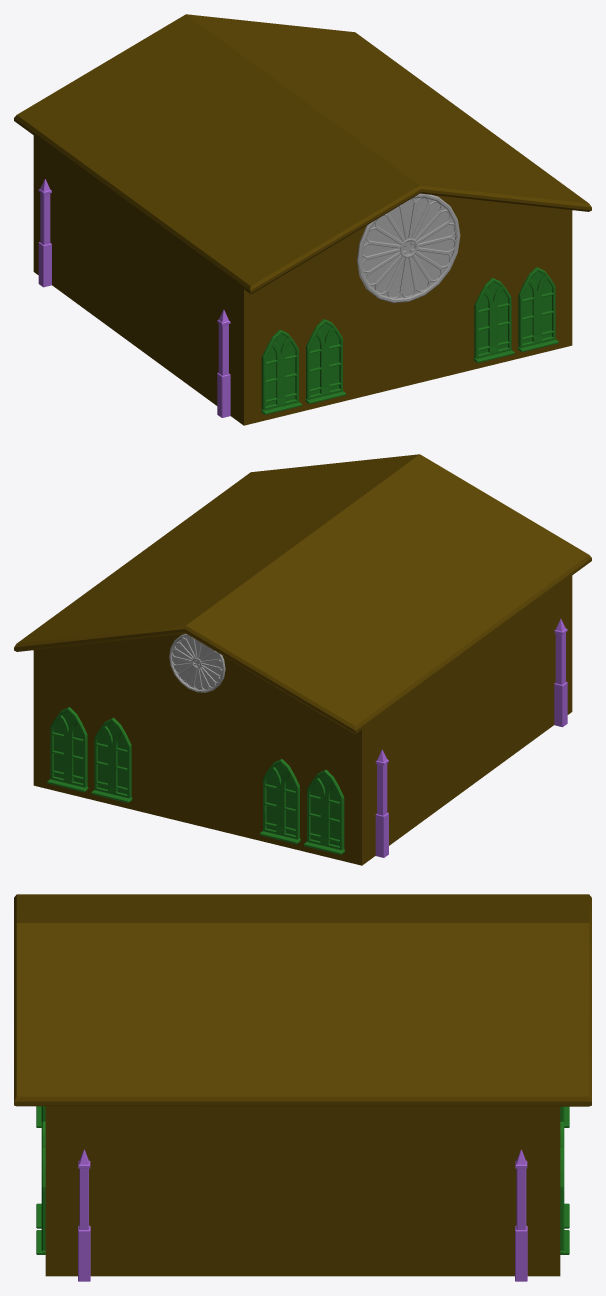
The model's file is Big_front_lower_abbey.fbx.
3 renders of one model, top to bottom at view 1: azimuth 30°, elevation 25°; view 2: azimuth 150°, elevation 25°; view 3: azimuth 270°, elevation 25°, orthographic. The views are drawn at different scales.
Visible parts, largest first — view 1: MainBig_Abbey_2, MainBig_Abbey_1, Curch_window1 (×4), polySurface2, polySurface1, pPlane1 (×4), Pillar_Entrance_1, Pillar_Entrance_3; view 2: MainBig_Abbey_1, MainBig_Abbey_2, Curch_window1 (×4), pPlane1 (×4), polySurface1, polySurface2, Pillar_Entrance_1, Pillar_Entrance_3; view 3: MainBig_Abbey_2, MainBig_Abbey_1, Pillar_Entrance_2, Pillar_Entrance_4, Curch_window1 (×2).
Boxes of the visible parts, bbox=[...] form: MainBig_Abbey_2: bbox=[132, 100, 591, 425]; MainBig_Abbey_1: bbox=[14, 14, 471, 348]; Curch_window1 (×4): bbox=[261, 267, 558, 414]; polySurface2: bbox=[361, 198, 455, 297]; polySurface1: bbox=[357, 193, 460, 303]; pPlane1 (×4): bbox=[266, 271, 551, 405]; Pillar_Entrance_1: bbox=[38, 179, 51, 287]; Pillar_Entrance_3: bbox=[217, 310, 230, 417]; MainBig_Abbey_1: bbox=[14, 540, 473, 865]; MainBig_Abbey_2: bbox=[134, 454, 591, 788]; Curch_window1 (×4): bbox=[47, 707, 344, 854]; pPlane1 (×4): bbox=[54, 711, 339, 845]; polySurface1: bbox=[169, 633, 225, 692]; polySurface2: bbox=[172, 636, 222, 689]; Pillar_Entrance_1: bbox=[375, 749, 388, 857]; Pillar_Entrance_3: bbox=[554, 619, 567, 727]; MainBig_Abbey_2: bbox=[14, 894, 302, 1276]; MainBig_Abbey_1: bbox=[303, 894, 591, 1276]; Pillar_Entrance_2: bbox=[515, 1149, 527, 1281]; Pillar_Entrance_4: bbox=[78, 1149, 90, 1281]; Curch_window1 (×2): bbox=[36, 1148, 569, 1254].
Bounding box in the file's own units: 39.96 × 23.05 × 47.28.
